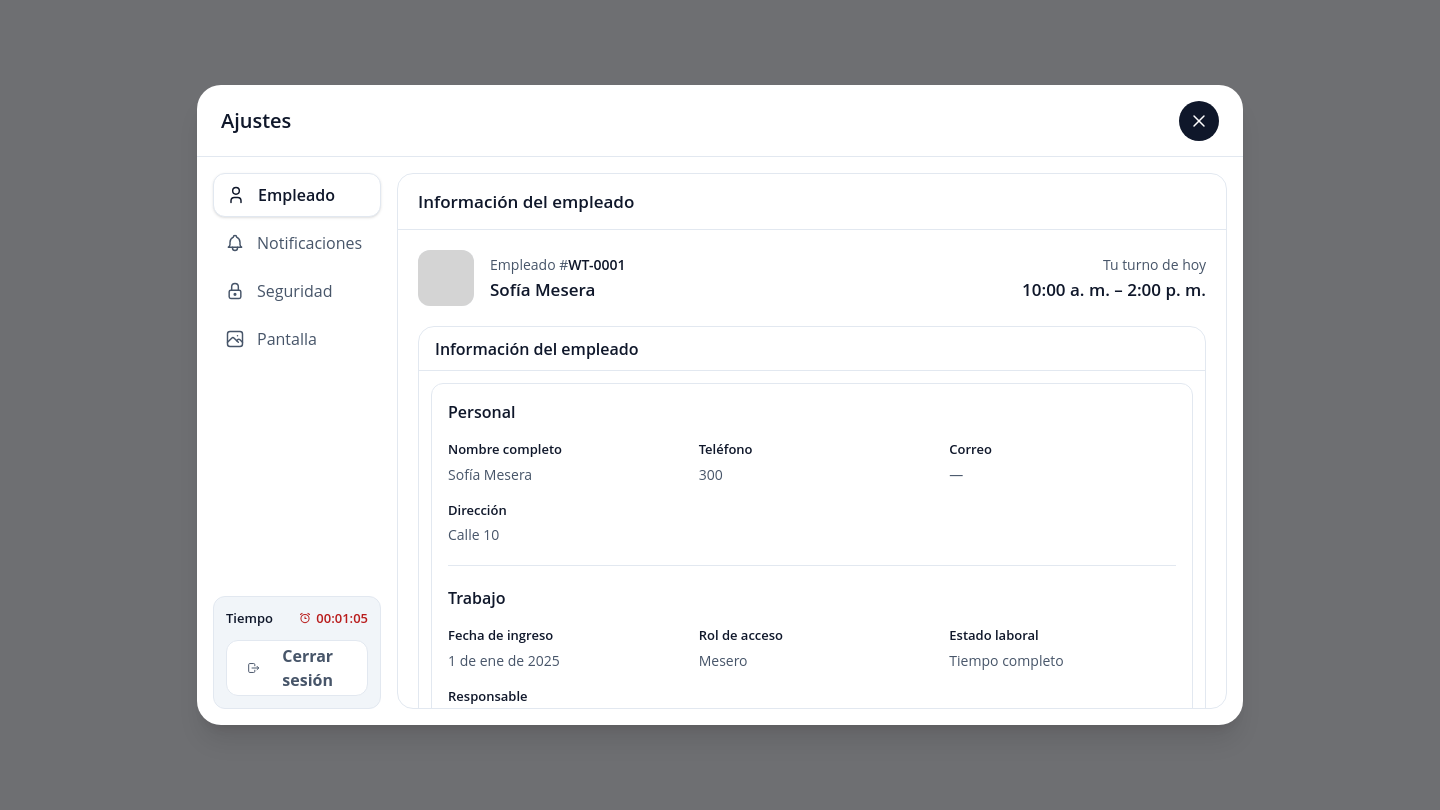
Scenario: display tab switches the theme and lists the languages with only Spanish enabled
This screenshot has width=1440, height=810.
Click the tab "Pantalla". click: x=297, y=339
box: [213, 317, 381, 361]
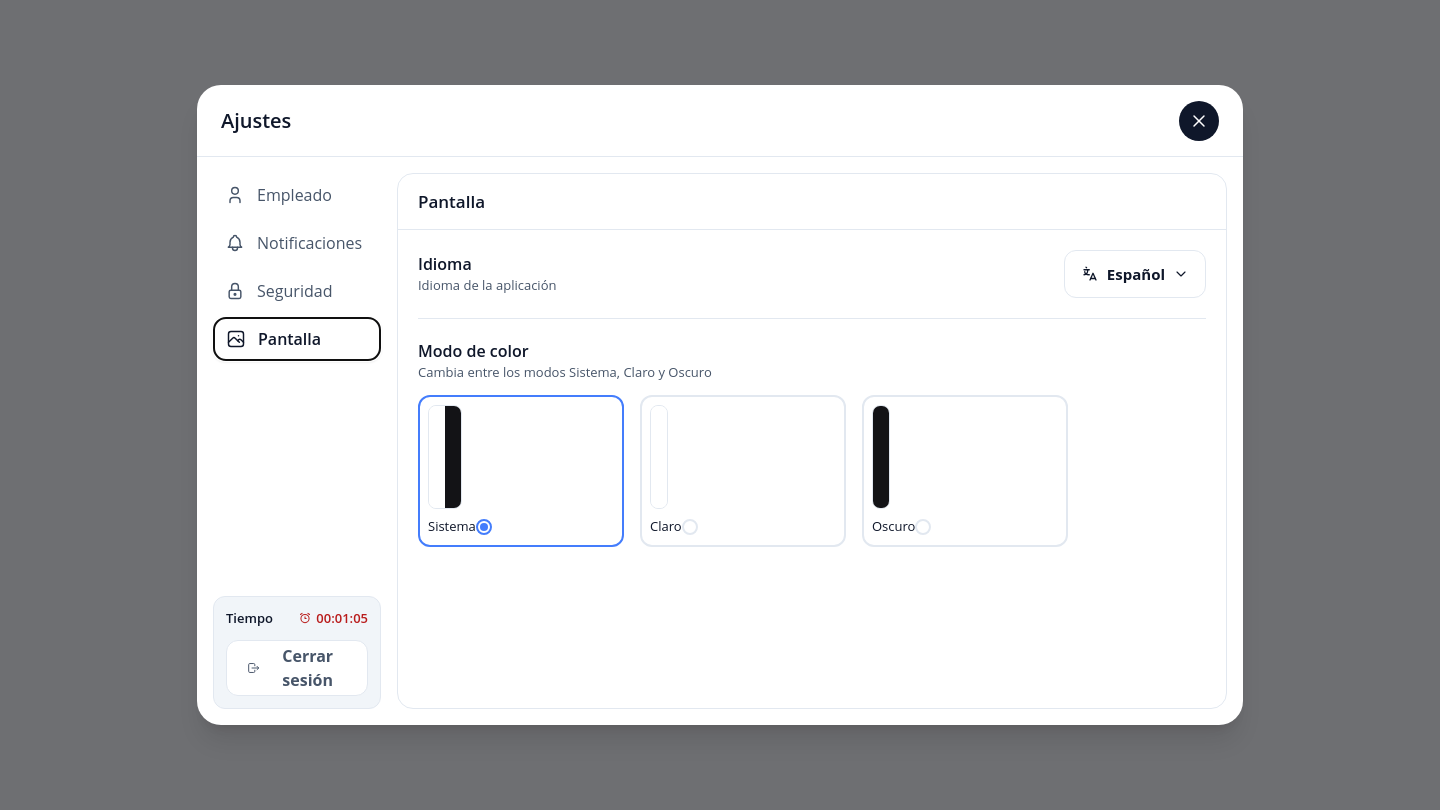
Click the radio button labelled "Oscuro". click: x=965, y=470
box: [862, 394, 1068, 546]
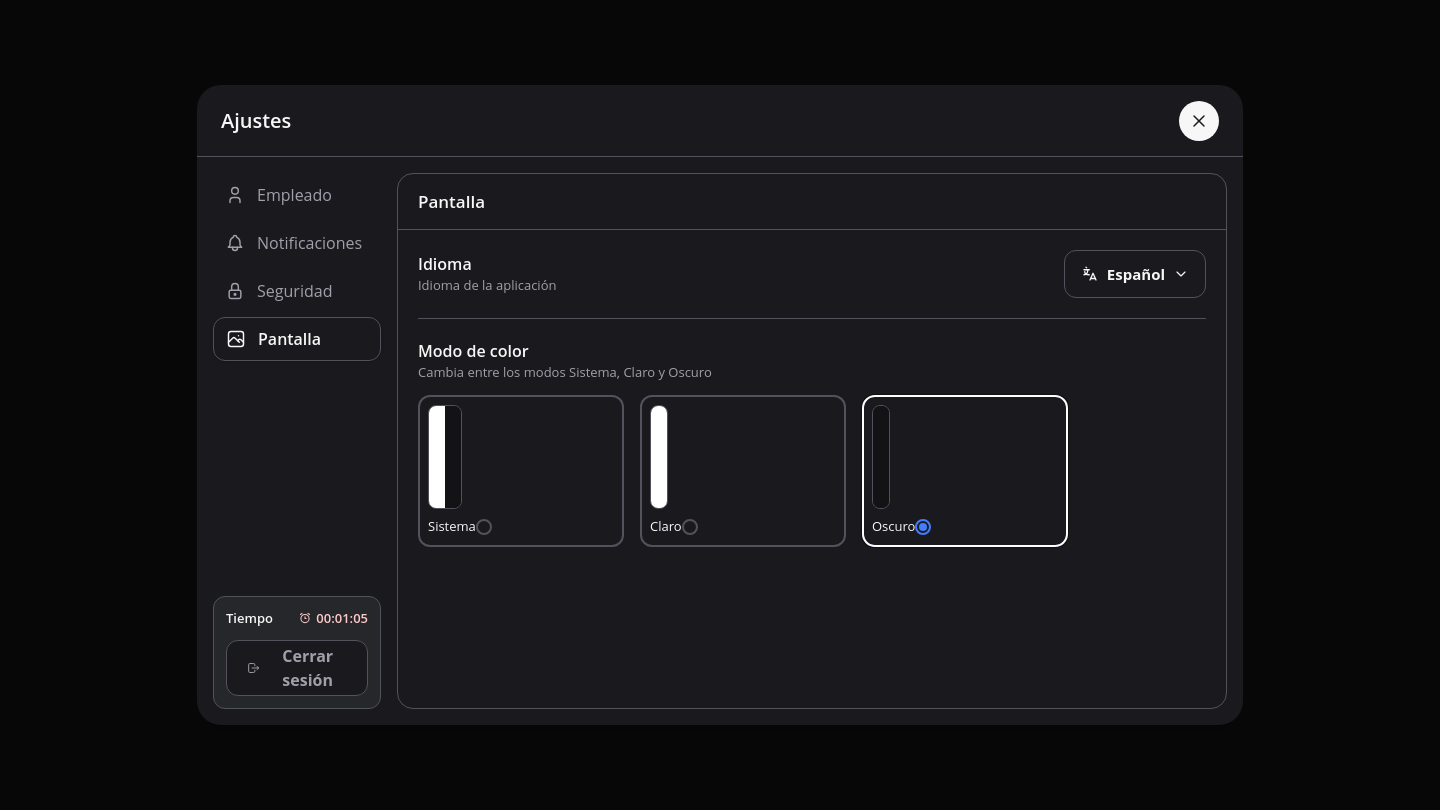
Click the button "Español". click: x=1135, y=274
box: [1064, 250, 1206, 298]
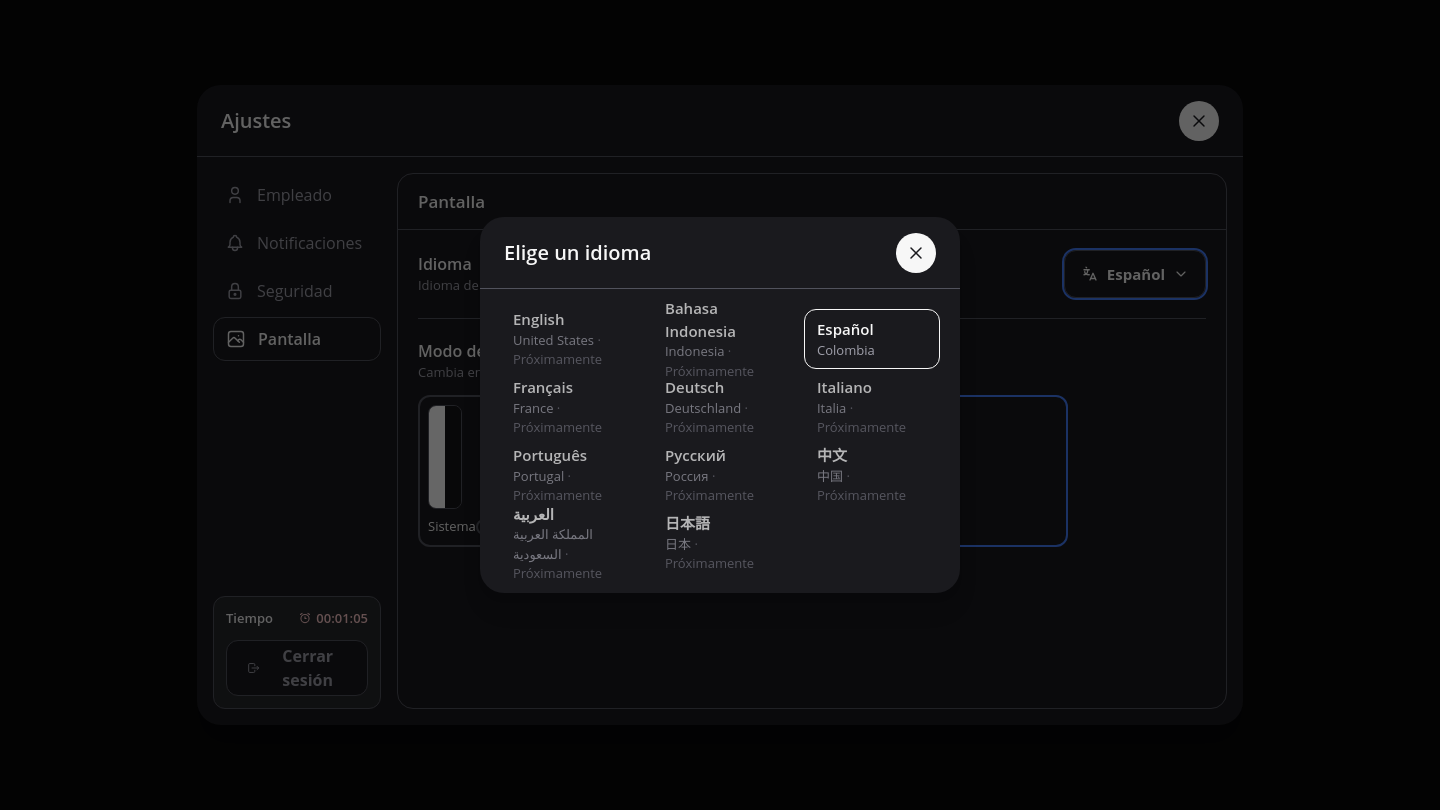
Expected: the radio button labelled "Español Colombia" is shown, [804, 309, 940, 369]
Expected: the radio button labelled "English United States · Próximamente" is disabled, [500, 309, 636, 369]
